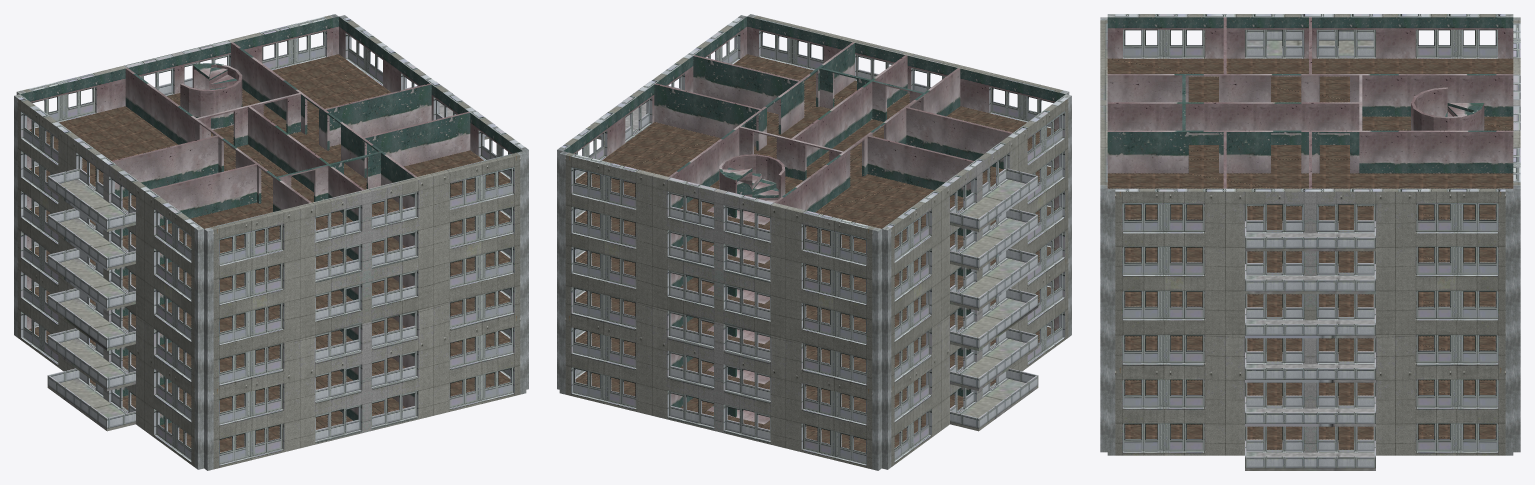
Rendered from BagSS10mid_high.fbx.
3 views of the same model, side by side, from view 1: azimuth 30°, elevation 25°; view 2: azimuth 150°, elevation 25°; view 3: azimuth 270°, elevation 25° (orthographic). The views are drawn at different scales.
Parts seen in each view (by area): view 1: midMainB700, midMain700, midWalls700, midFLoor700, midCrete700, midStairs700; view 2: midMain700, midWalls700, midFLoor700, midCrete700, midMainB700, midStairs700; view 3: midMainB700, midWalls700, midFLoor700, midMain700, midCrete700, midStairs700.
Boxes of the visible parts, x1,y1,x2,y2 form: midMainB700: (210, 17, 524, 469); midMain700: (17, 15, 332, 466); midWalls700: (20, 16, 522, 425); midFLoor700: (29, 54, 510, 452); midCrete700: (14, 14, 528, 470); midStairs700: (180, 63, 242, 129); midMain700: (565, 97, 1068, 469); midWalls700: (563, 16, 1065, 407); midFLoor700: (575, 54, 1056, 452); midCrete700: (557, 14, 1071, 470); midMainB700: (561, 15, 1062, 378); midStairs700: (707, 154, 785, 424); midMainB700: (1100, 20, 1505, 470); midWalls700: (1107, 17, 1513, 188); midFLoor700: (1107, 58, 1513, 449); midMain700: (1115, 14, 1520, 185); midCrete700: (1100, 14, 1520, 455); midStairs700: (1411, 87, 1484, 130).
Size of the model in its own units: 51.84 by 30.56 by 44.16.
